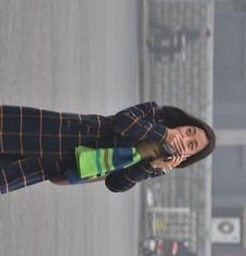person: (1, 101, 216, 199), (147, 18, 211, 48)
